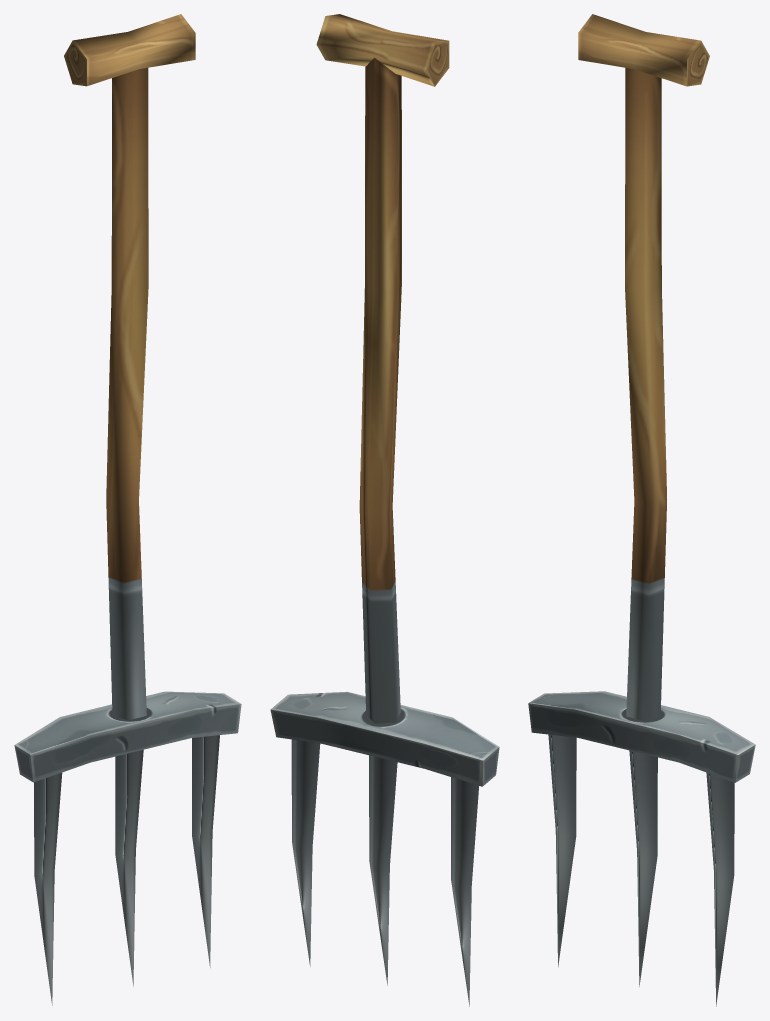
Rendered from digging_fork.fbx.
The picture shows the model from 3 angles, left to right: view 1: azimuth 30°, elevation 25°; view 2: azimuth 150°, elevation 25°; view 3: azimuth 330°, elevation 25°; orthographic projection.
Parts seen in each view (by area): view 1: digging_fork:Mesh; view 2: digging_fork:Mesh; view 3: digging_fork:Mesh.
Part boxes in pixels (x1=…): digging_fork:Mesh: x1=14, y1=14, x2=241, y2=1005; digging_fork:Mesh: x1=270, y1=14, x2=499, y2=1006; digging_fork:Mesh: x1=528, y1=14, x2=755, y2=1006.
Size of the model in its own units: 0.8197 by 3.55 by 0.2015.
